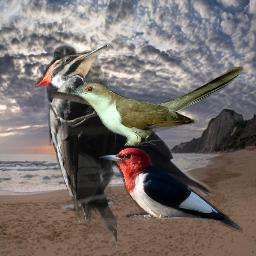Crow: (43, 43, 212, 211)
Cuckoo: (67, 65, 244, 146)
Woodpecker: (35, 44, 117, 253), (95, 145, 243, 234)
